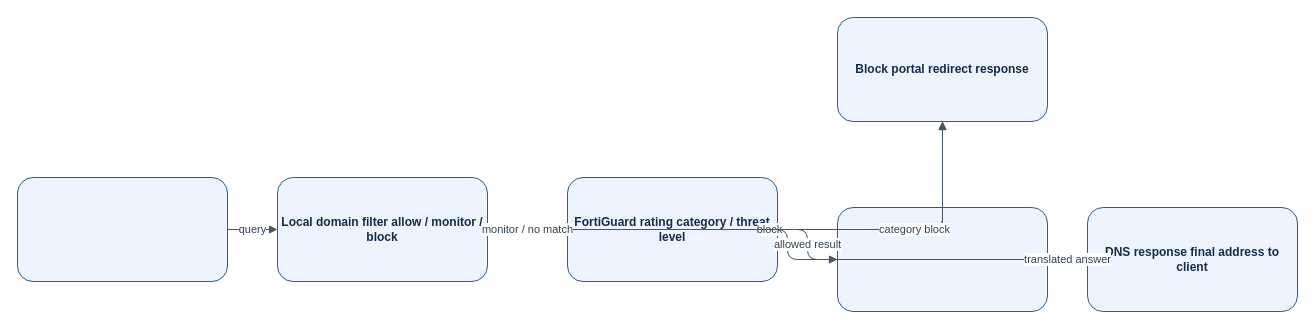
This 1315x329 diagram has some shape labels left out. The box of each missing label's shape, as (x1, y1, x2, y2) in pixels:
Client DNS query qname / qtype: (16, 176, 228, 282)
DNS translation original IP -> mapped IP: (836, 206, 1048, 312)
